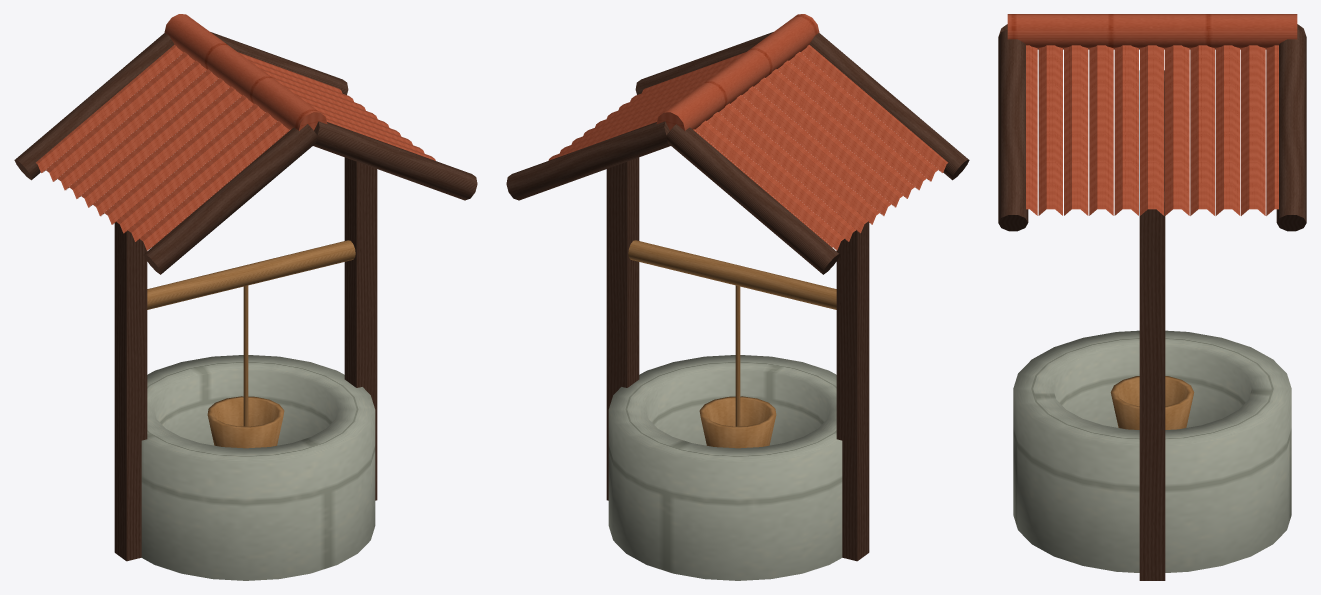
The model's file is well.glb.
3 renders of one model, left to right at view 1: azimuth 30°, elevation 25°; view 2: azimuth 150°, elevation 25°; view 3: azimuth 270°, elevation 25°, orthographic. The views are drawn at different scales.
Visible parts, largest first — view 1: well; view 2: well; view 3: well.
Boxes of the visible parts, <box> form: well: <box>14,14,477,580</box>; well: <box>506,14,969,580</box>; well: <box>998,14,1306,580</box>.
Size of the model in its own units: 2.05 by 2.77 by 1.55.
4 materials, 4 textured.
